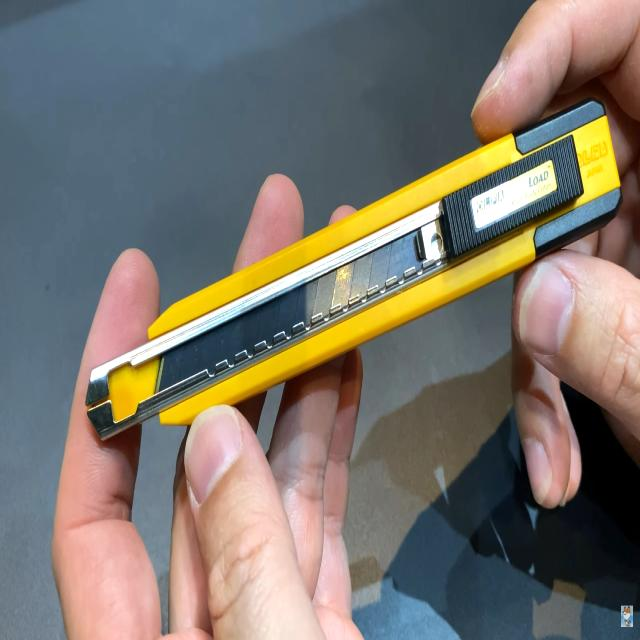cutter: (30, 39, 640, 491)
